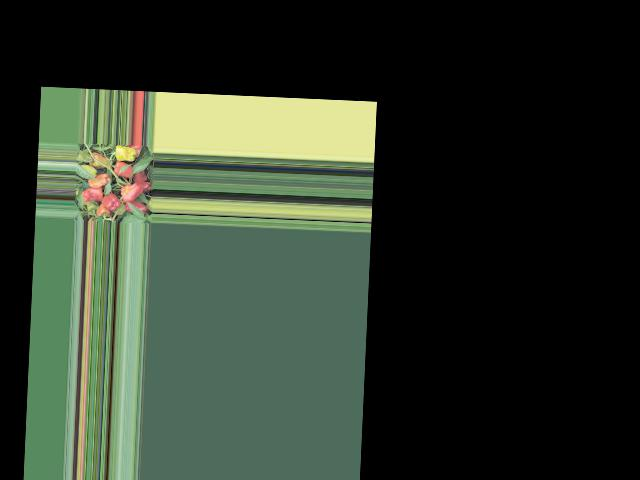bell_pepper: (96, 204, 107, 218)
